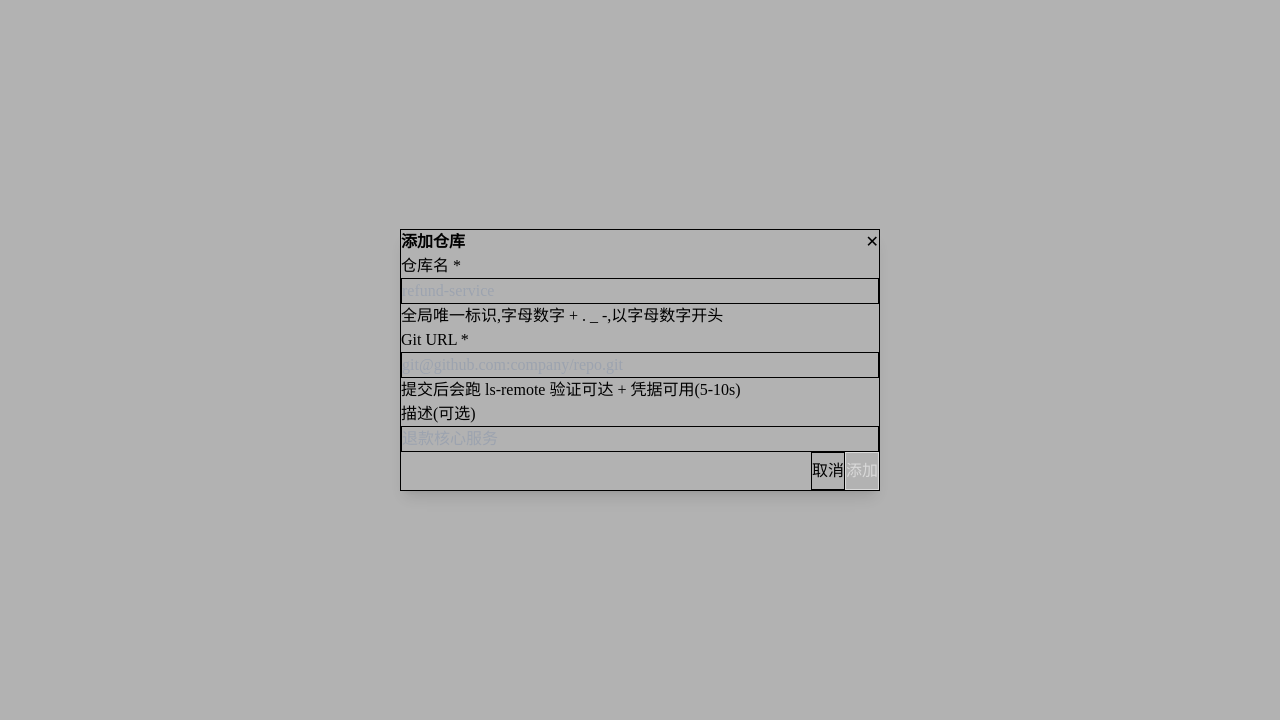
Test case: AddRepoModal · 提交 › 鉴权错(E_AUTH)→ 显示对应文案
The image size is (1280, 720).
In the field with test id "add-repo-name": (640, 291) [401,278,879,304], type "private"
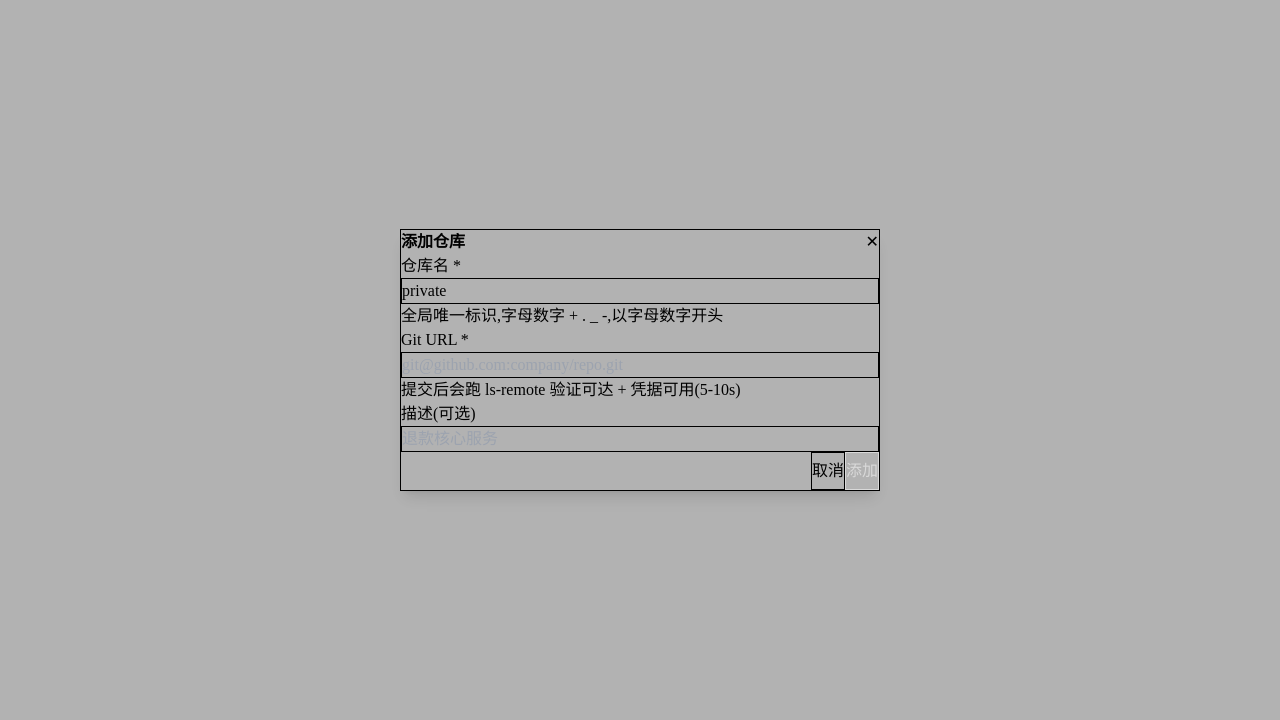
In the field with test id "add-repo-giturl": (640, 365) [401,352,879,378], type "git@github.com:co/private.git"
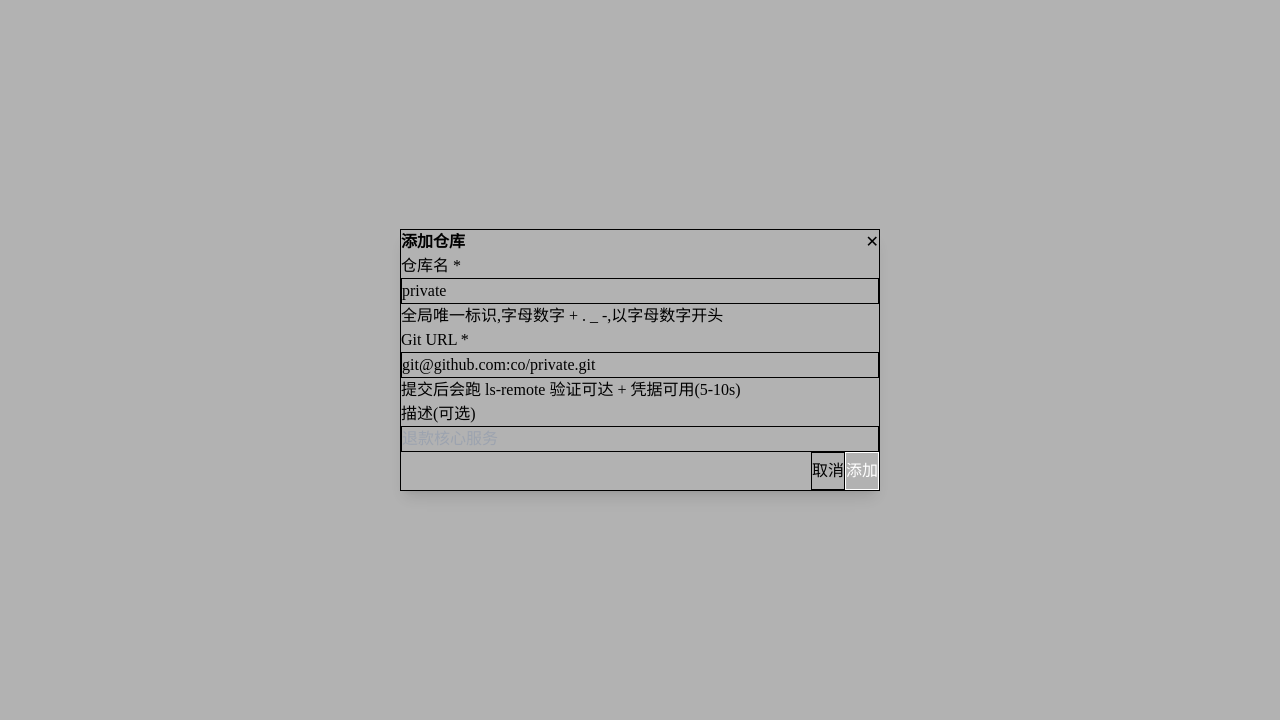
Click the button with test id "add-repo-submit": click(862, 471) [845,452,879,490]
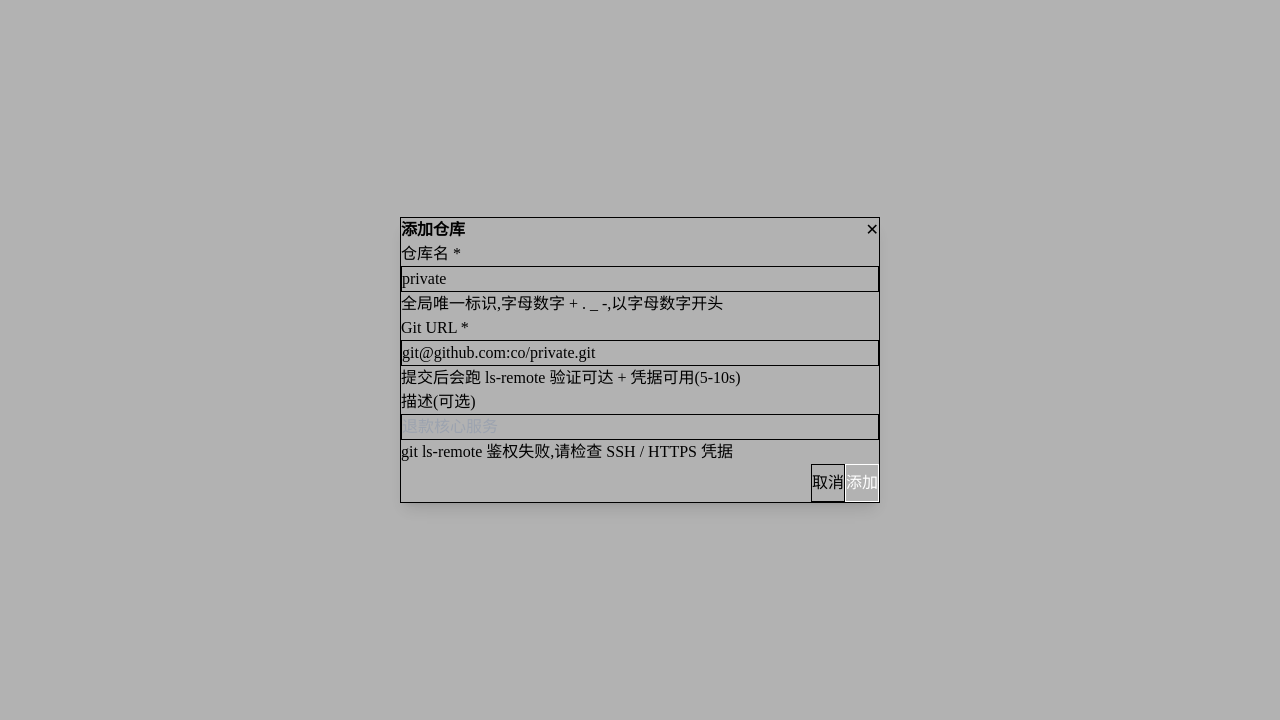
Now the text with test id "add-repo-error" shows "鉴权", box [401,443,733,460]
